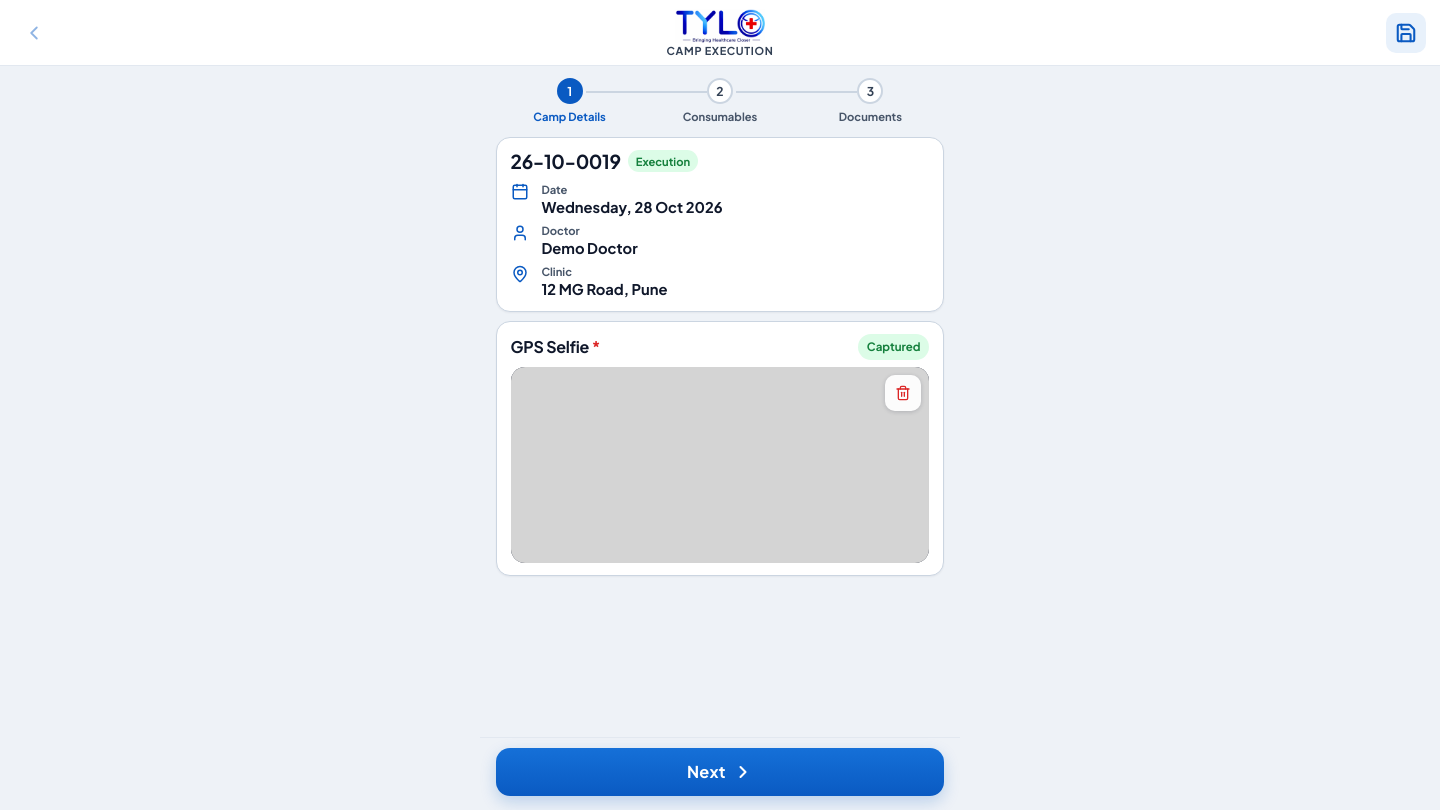
Test: CampExecutePage activity form layout › shows execution information and consumables on page 2, without paper docs
Expected: the text "26-10-0019" is shown, [511, 150, 621, 172]
Click the button "Next" at (720, 772), box [496, 748, 944, 796]
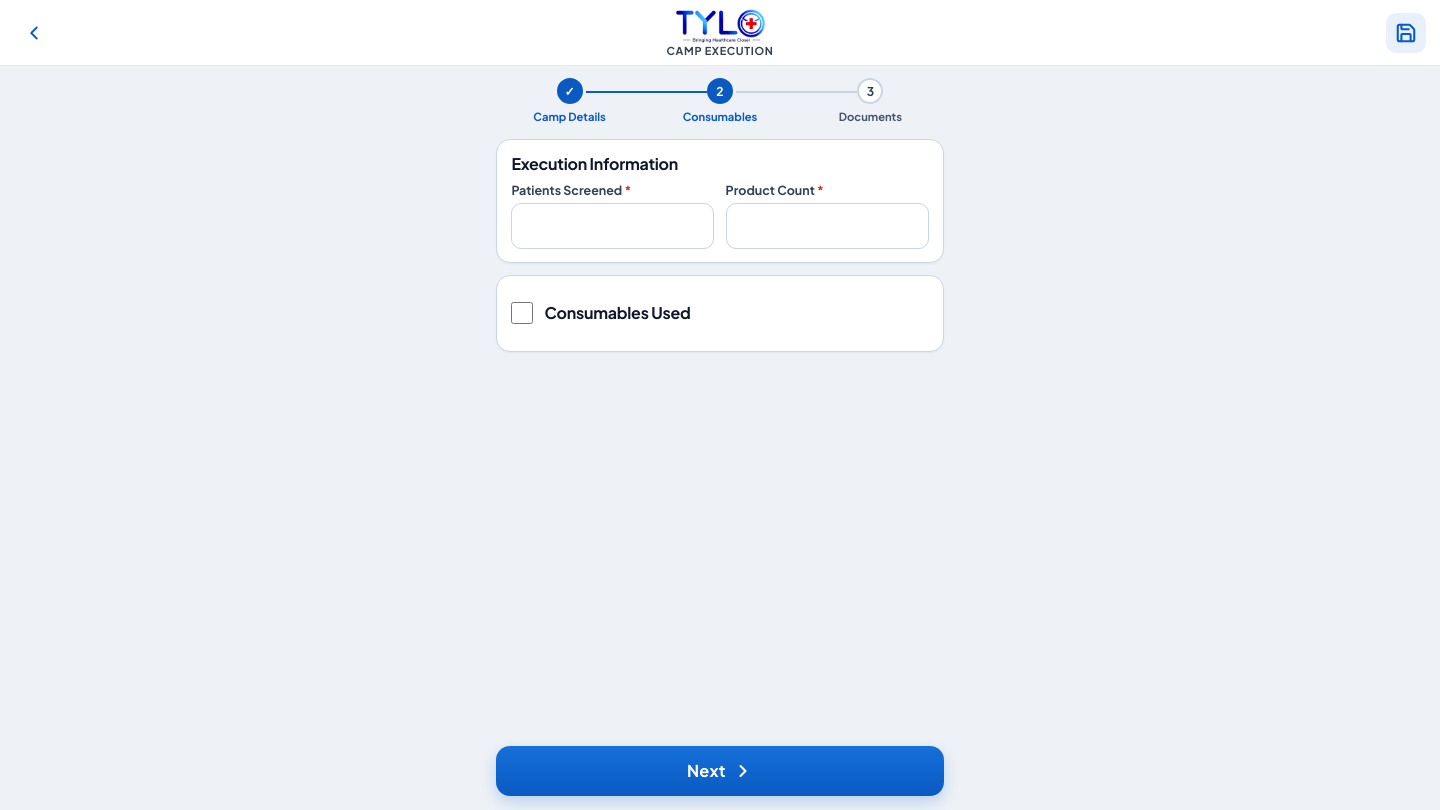
Expected: the heading "Execution Information" is shown, [511, 153, 678, 174]
Expected: the number field labelled "Patients Screened *" is shown, [511, 203, 714, 249]
Expected: the number field labelled "Product Count *" is shown, [726, 203, 929, 249]
